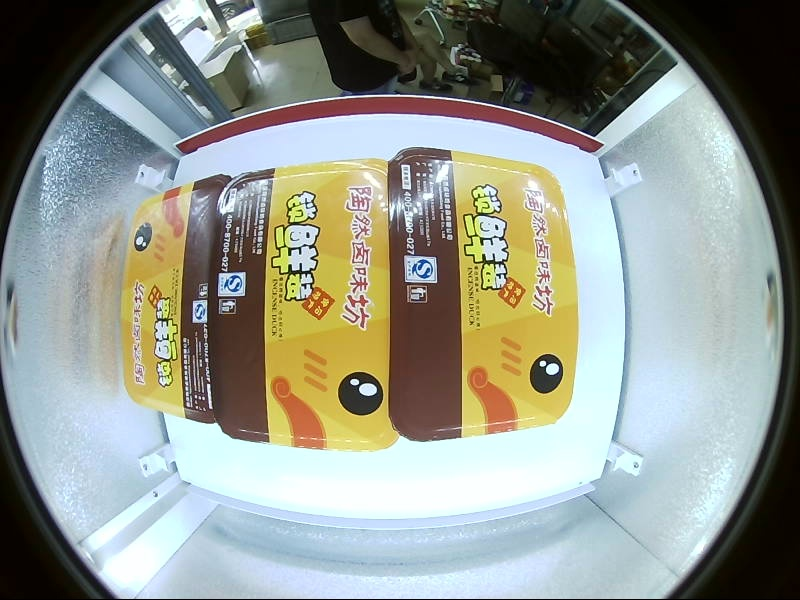ops-m155: (234, 169, 567, 464), (309, 127, 609, 442), (304, 155, 608, 454), (327, 283, 608, 555), (271, 116, 578, 356), (232, 319, 538, 558), (193, 240, 434, 528), (225, 335, 521, 565), (273, 200, 567, 416), (366, 179, 564, 479), (341, 340, 606, 563), (166, 183, 428, 402), (388, 146, 578, 444), (213, 157, 403, 452), (192, 173, 377, 466), (284, 199, 525, 422), (413, 137, 595, 426), (446, 130, 651, 384), (120, 254, 332, 497), (381, 133, 626, 342), (371, 298, 570, 552), (326, 327, 537, 564), (211, 363, 493, 538), (385, 310, 582, 558), (446, 82, 654, 316), (381, 308, 575, 557), (191, 288, 379, 542), (158, 272, 339, 532), (356, 73, 562, 301), (371, 322, 568, 559), (204, 323, 399, 561), (205, 391, 481, 558), (356, 232, 570, 443), (304, 149, 528, 349), (209, 69, 409, 289), (174, 384, 429, 556), (379, 218, 572, 442), (449, 82, 638, 310), (344, 265, 545, 478), (280, 405, 556, 560), (401, 71, 590, 295), (481, 160, 634, 435), (439, 314, 654, 507), (363, 159, 579, 350), (477, 295, 645, 539), (363, 113, 575, 306), (315, 413, 579, 566), (372, 271, 580, 465), (362, 302, 563, 501), (452, 162, 650, 363), (376, 268, 566, 477), (254, 295, 446, 490), (234, 286, 435, 472), (365, 118, 573, 295), (475, 316, 658, 515), (476, 217, 643, 435), (485, 202, 665, 404), (482, 209, 661, 412), (146, 402, 367, 562), (450, 188, 615, 402), (129, 369, 332, 542), (456, 202, 630, 403), (255, 299, 440, 488), (195, 213, 377, 404), (467, 265, 639, 467), (380, 70, 613, 219), (242, 321, 446, 490), (131, 386, 329, 559), (128, 381, 322, 556), (465, 308, 639, 496), (459, 389, 652, 557), (461, 383, 653, 551), (462, 307, 635, 493), (458, 384, 651, 550), (456, 70, 648, 236), (450, 306, 625, 488), (355, 237, 560, 391), (346, 202, 494, 414), (194, 269, 349, 465), (523, 322, 661, 541), (322, 299, 482, 487), (289, 227, 435, 432), (221, 289, 377, 480), (423, 209, 565, 418), (517, 88, 659, 295), (400, 203, 540, 412), (325, 308, 481, 493), (377, 133, 580, 275), (294, 122, 496, 264), (348, 232, 543, 379), (260, 283, 454, 428), (291, 207, 426, 415), (344, 115, 495, 298), (407, 289, 596, 434), (400, 190, 535, 392), (418, 195, 552, 398), (444, 277, 614, 437), (554, 172, 660, 427), (496, 286, 641, 472), (287, 194, 419, 397), (452, 276, 627, 429), (405, 323, 550, 505), (313, 346, 512, 477), (420, 125, 560, 310), (395, 304, 536, 487), (351, 111, 498, 286), (407, 322, 548, 502), (307, 317, 446, 499), (279, 309, 420, 488), (301, 114, 438, 298), (284, 306, 420, 490), (300, 317, 434, 503), (403, 110, 542, 289), (428, 114, 566, 294), (228, 353, 415, 485), (290, 110, 429, 287), (364, 113, 557, 240), (313, 381, 512, 504), (418, 318, 549, 502), (400, 114, 535, 292), (413, 317, 550, 492), (425, 114, 560, 291), (472, 294, 596, 483), (491, 125, 623, 301), (485, 211, 644, 357), (350, 113, 544, 232), (337, 116, 531, 234), (475, 227, 632, 370), (197, 227, 354, 369), (488, 230, 646, 369), (501, 322, 627, 496), (478, 119, 636, 255), (192, 290, 311, 468), (468, 124, 623, 260), (470, 120, 631, 250), (333, 121, 525, 230), (204, 353, 358, 488), (199, 346, 366, 470), (515, 126, 633, 299), (474, 132, 640, 253), (526, 326, 643, 497), (201, 234, 307, 422), (465, 363, 623, 489), (523, 278, 632, 460), (206, 302, 319, 477), (468, 118, 626, 243), (524, 329, 642, 495), (470, 118, 624, 245), (471, 367, 636, 485), (537, 214, 637, 405), (520, 285, 625, 466), (520, 125, 632, 291), (206, 310, 312, 484), (518, 126, 629, 291), (523, 300, 626, 473), (538, 133, 644, 301), (533, 196, 628, 381)
